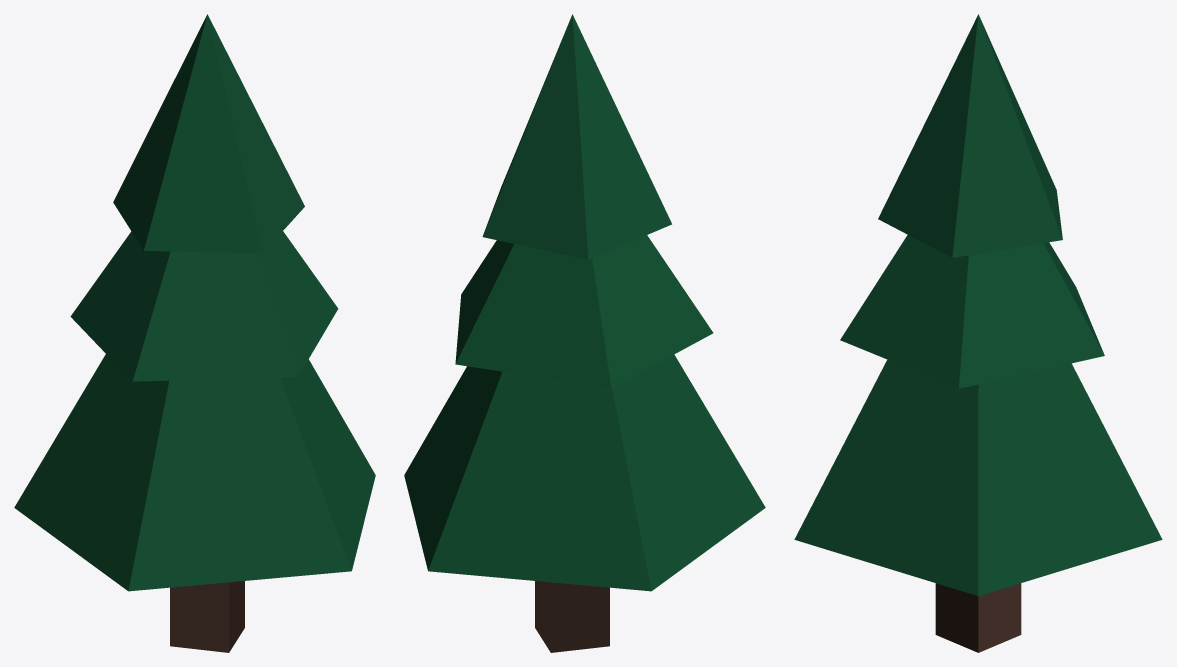
File: TB_Env_TreeTB_A.FBX
3 views of the same model, side by side, from view 1: azimuth 30°, elevation 25°; view 2: azimuth 150°, elevation 25°; view 3: azimuth 270°, elevation 25° (orthographic).
Visible parts, largest first — view 1: TB_Env_TreeTB_A; view 2: TB_Env_TreeTB_A; view 3: TB_Env_TreeTB_A.
Boxes of the visible parts, <box> form: TB_Env_TreeTB_A: <box>14,14,375,652</box>; TB_Env_TreeTB_A: <box>404,14,765,652</box>; TB_Env_TreeTB_A: <box>794,14,1162,652</box>.
Bounding box in the file's own units: 2.93 × 5.74 × 3.08.
